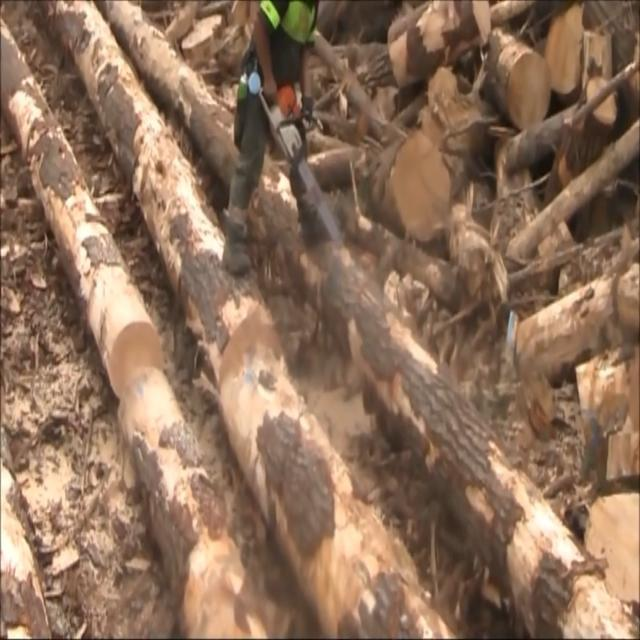Chainsaw: (242, 48, 356, 282)
